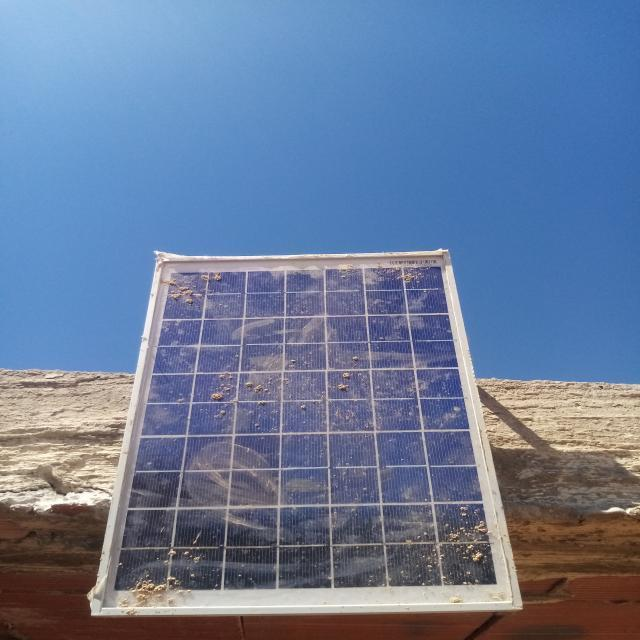faulty: (93, 252, 524, 615)
